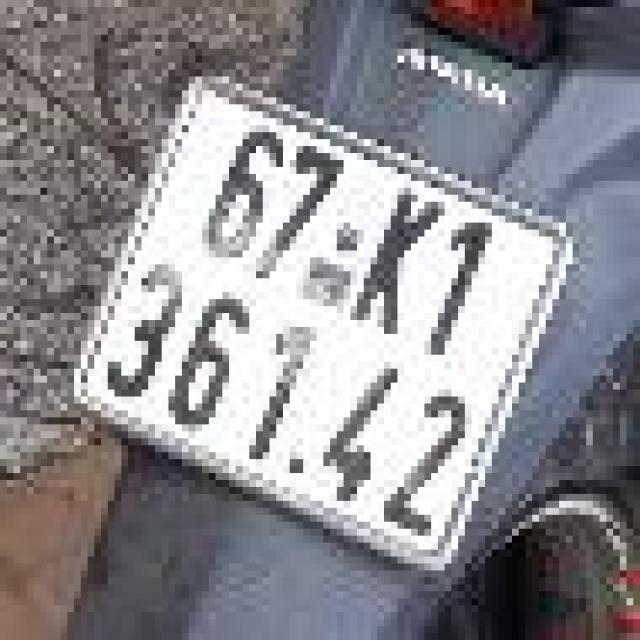1: (232, 312, 332, 474), (417, 209, 515, 367)
2: (373, 380, 486, 549)
3: (94, 250, 202, 416)
4: (311, 341, 422, 519)
6: (156, 280, 265, 446), (190, 114, 301, 273)
7: (246, 136, 356, 298)
K: (346, 178, 456, 350)
